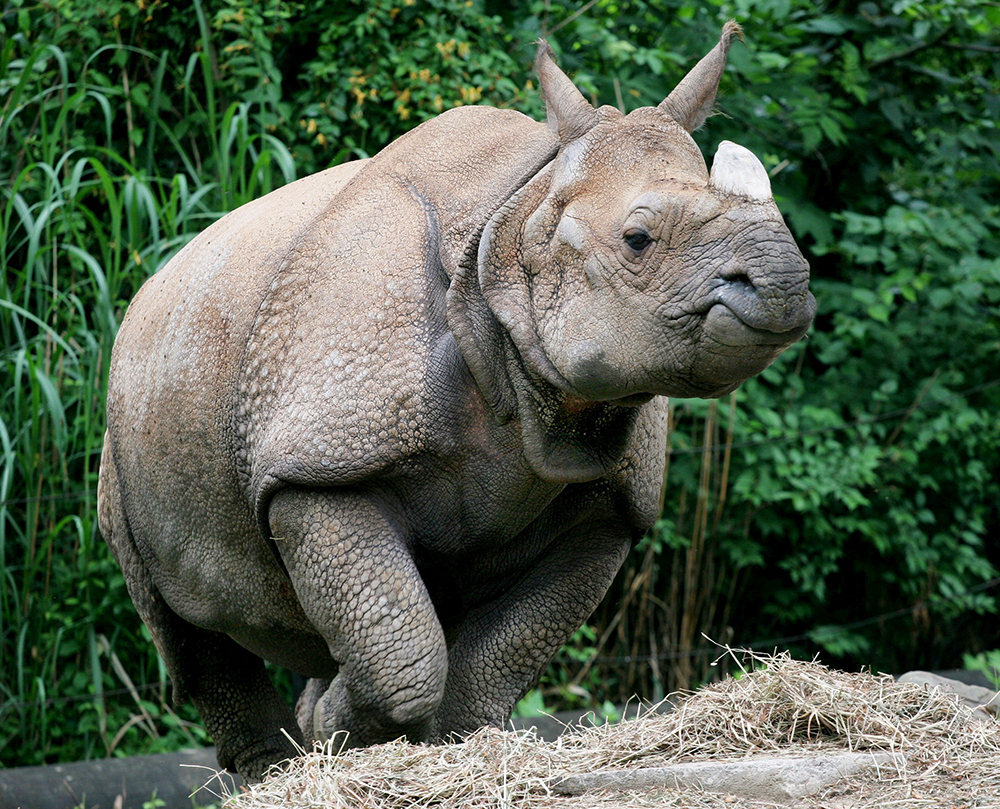rhinoceros: (63, 21, 816, 754)
